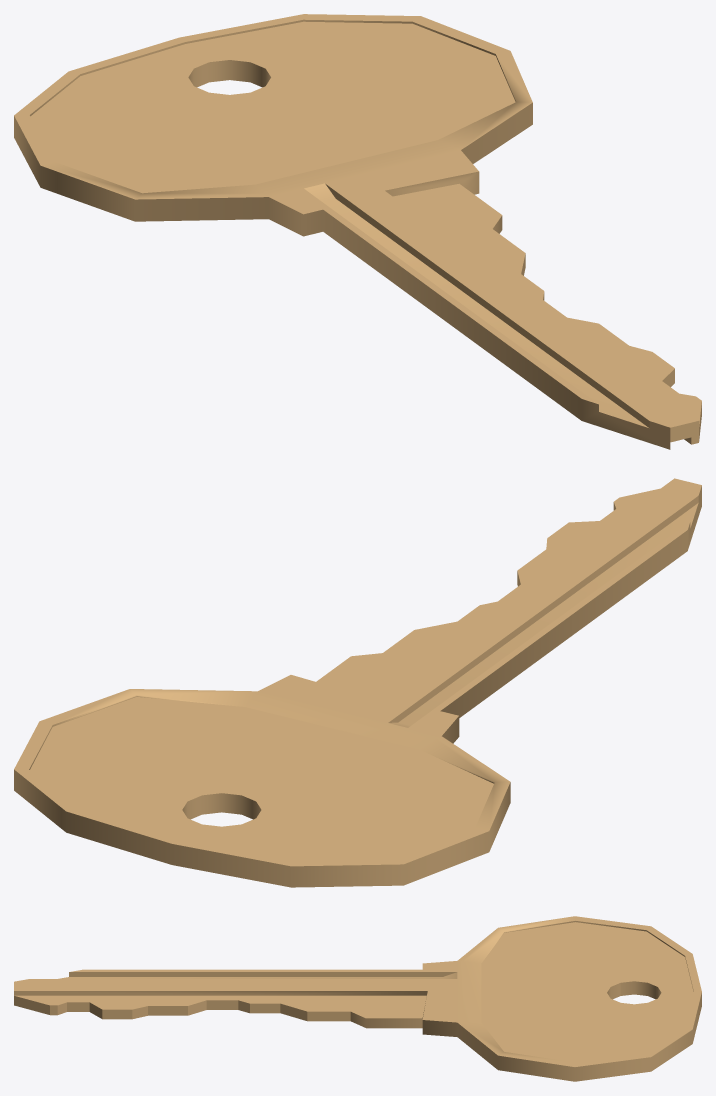
File: key_prop.fbx
3 renders of one model, top to bottom at view 1: azimuth 30°, elevation 25°; view 2: azimuth 150°, elevation 25°; view 3: azimuth 270°, elevation 25°, orthographic. The views are drawn at different scales.
Visible parts, largest first — view 1: Key; view 2: Key; view 3: Key.
Boxes of the visible parts, left/top/right/bottom form: Key: left=14, top=14, right=701, bottom=449; Key: left=14, top=478, right=701, bottom=887; Key: left=14, top=916, right=701, bottom=1081.
Bounding box in the file's own units: 1381 × 62.15 × 2658.
